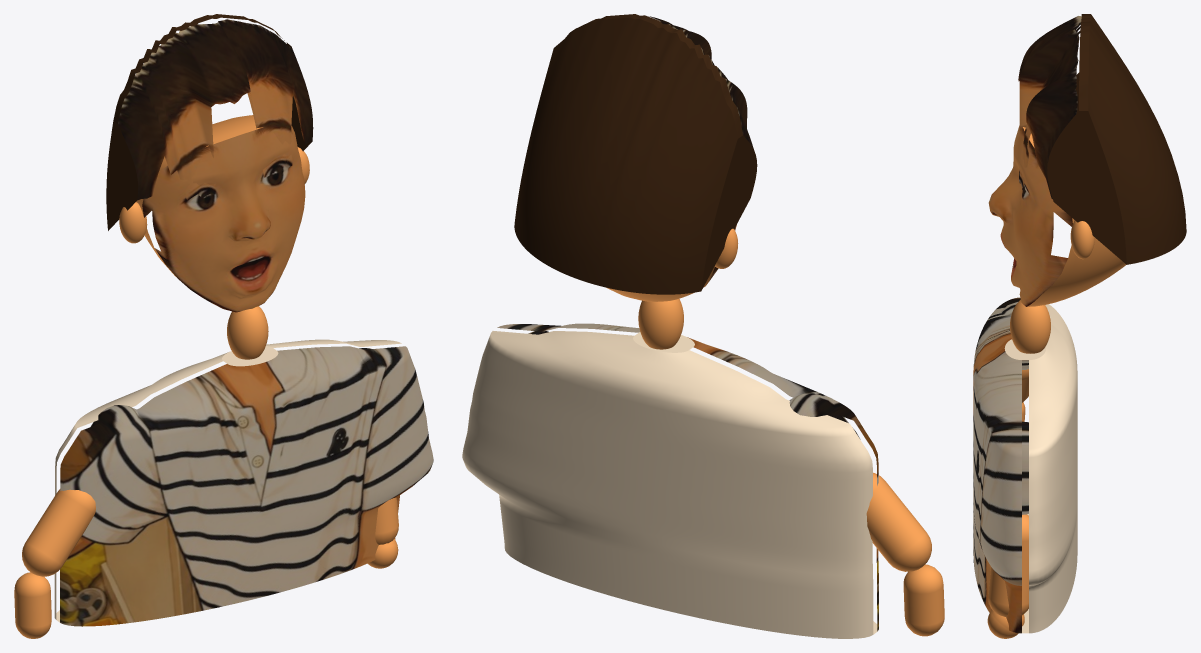
Rendered from portrait.glb.
The picture shows the model from 3 angles, left to right: view 1: azimuth 30°, elevation 25°; view 2: azimuth 150°, elevation 25°; view 3: azimuth 270°, elevation 25°; orthographic projection. The views are drawn at different scales.
Parts seen in each view (by area): view 1: figure-surface-1, figure-surface-5, figure-surface-0, figure-surface-8, figure-surface-2, figure-surface-6; view 2: figure-surface-2, figure-surface-7, figure-surface-0, figure-surface-8, figure-surface-1, figure-surface-5, figure-surface-6; view 3: figure-surface-1, figure-surface-5, figure-surface-2, figure-surface-7, figure-surface-8, figure-surface-0, figure-surface-6, figure-surface-3.
Part boxes in pixels (bbox=[...]): figure-surface-1: bbox=[60, 346, 433, 626]; figure-surface-5: bbox=[118, 19, 313, 312]; figure-surface-0: bbox=[14, 306, 398, 638]; figure-surface-8: bbox=[106, 14, 311, 230]; figure-surface-2: bbox=[54, 339, 401, 619]; figure-surface-6: bbox=[119, 115, 309, 277]; figure-surface-2: bbox=[462, 331, 873, 638]; figure-surface-7: bbox=[514, 17, 737, 294]; figure-surface-0: bbox=[638, 298, 944, 636]; figure-surface-8: bbox=[572, 14, 757, 290]; figure-surface-1: bbox=[497, 323, 878, 631]; figure-surface-5: bbox=[649, 16, 753, 281]; figure-surface-6: bbox=[606, 228, 738, 301]; figure-surface-1: bbox=[973, 297, 1028, 633]; figure-surface-5: bbox=[988, 16, 1081, 306]; figure-surface-2: bbox=[1029, 304, 1077, 633]; figure-surface-7: bbox=[1088, 14, 1186, 264]; figure-surface-8: bbox=[1047, 14, 1126, 264]; figure-surface-0: bbox=[987, 300, 1050, 638]; figure-surface-6: bbox=[1023, 127, 1126, 306]; figure-surface-3: bbox=[1004, 339, 1046, 359].
Size of the model in its own units: 2.46 by 3.07 by 1.08.
Materials: 9 (2 with a texture image).
